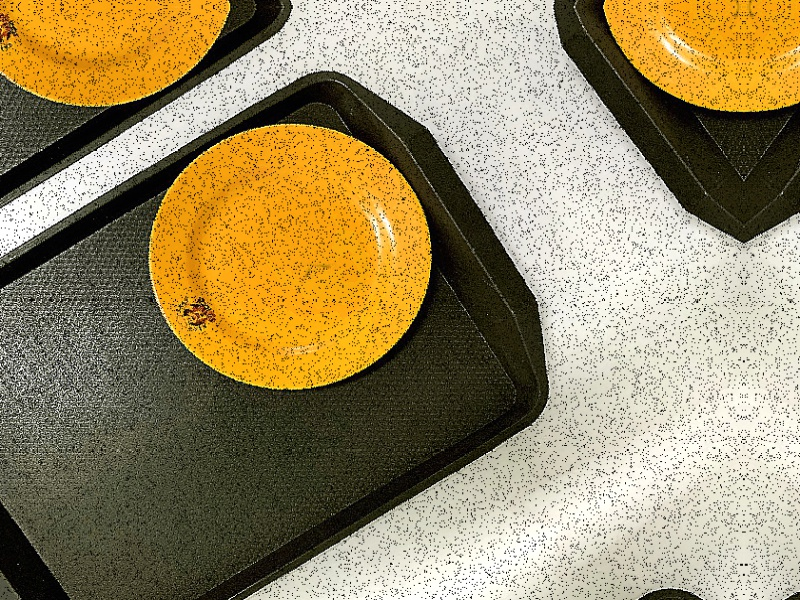dish10: (87, 69, 493, 451)
